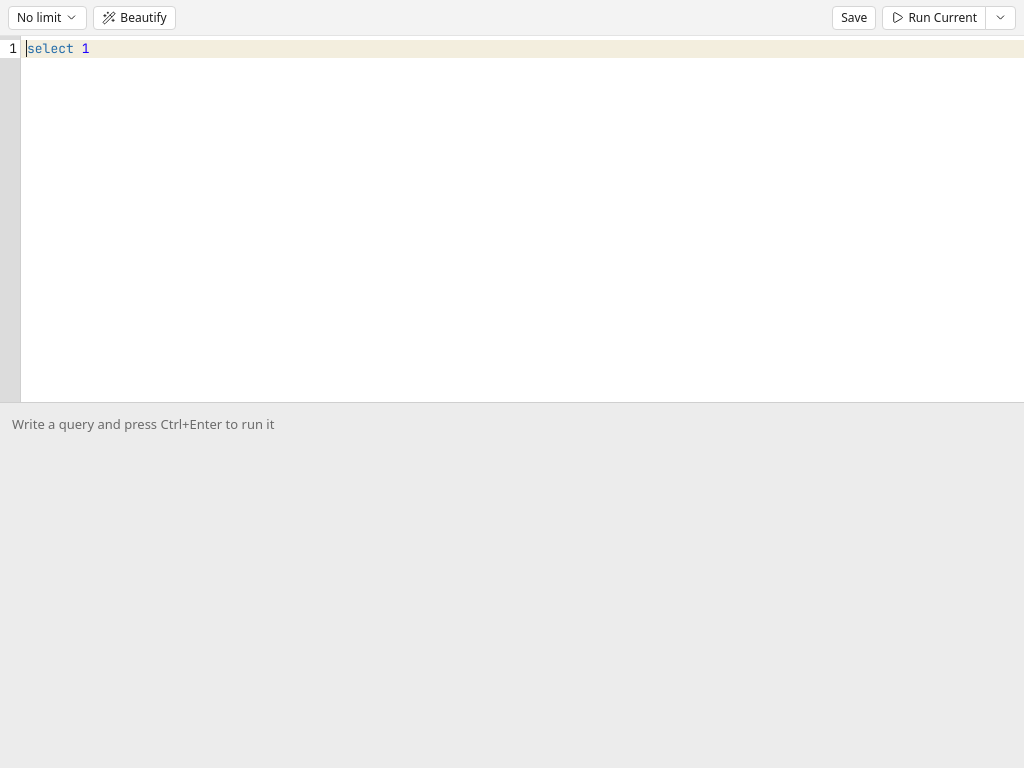
Test: run state survives unmount/remount and events keep landing while unmounted
The width and height of the screenshot is (1024, 768).
Step 1. Click the button named "More run options" → click(1000, 18), box [985,6,1016,30]
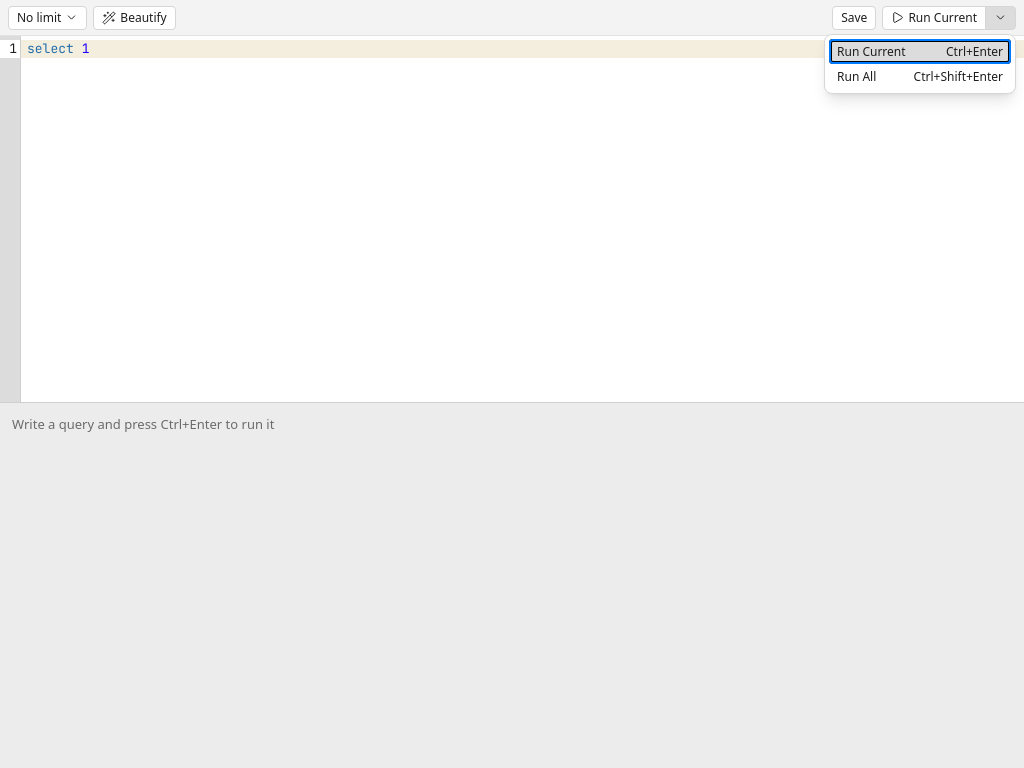
Step 2. Click the menu item "Run All Ctrl+Shift+Enter" → click(920, 76), box [829,64,1011,89]
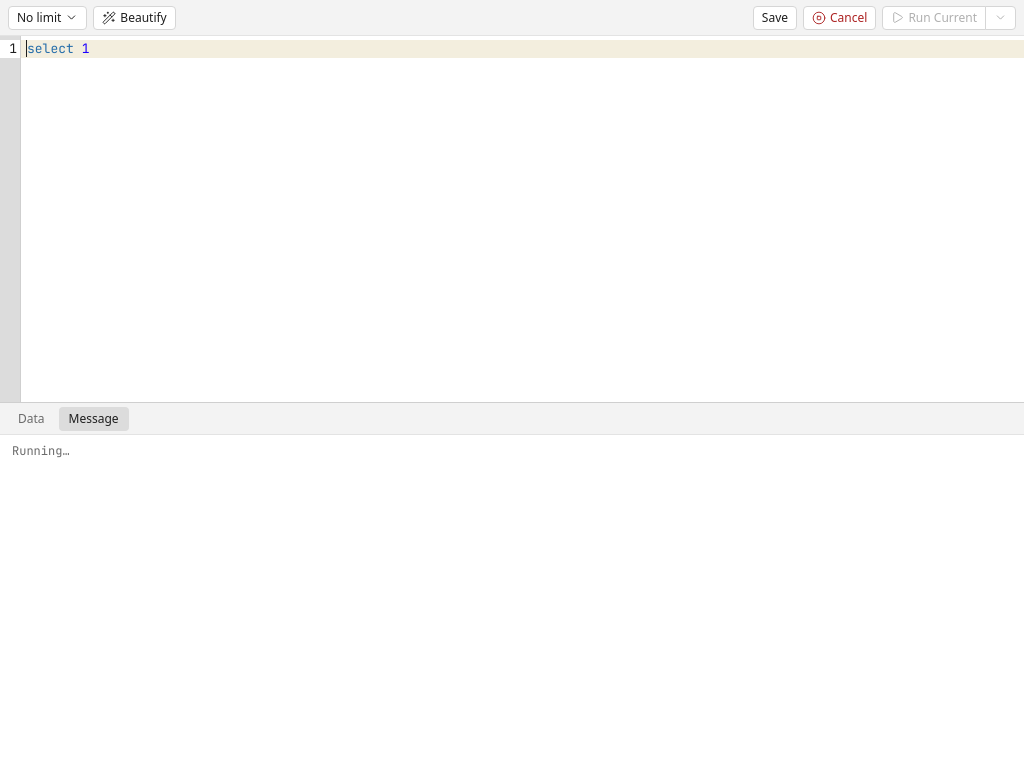
Expected: the button "Cancel" is shown, [803,6,876,30]
